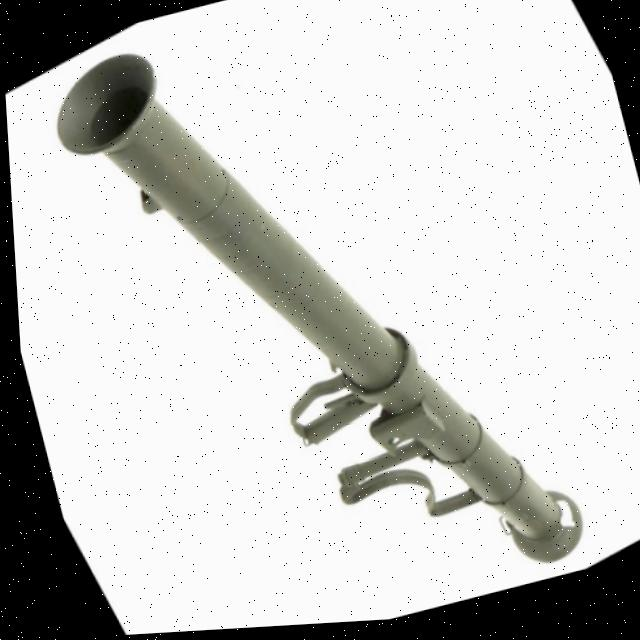rocket: (27, 0, 600, 639)
